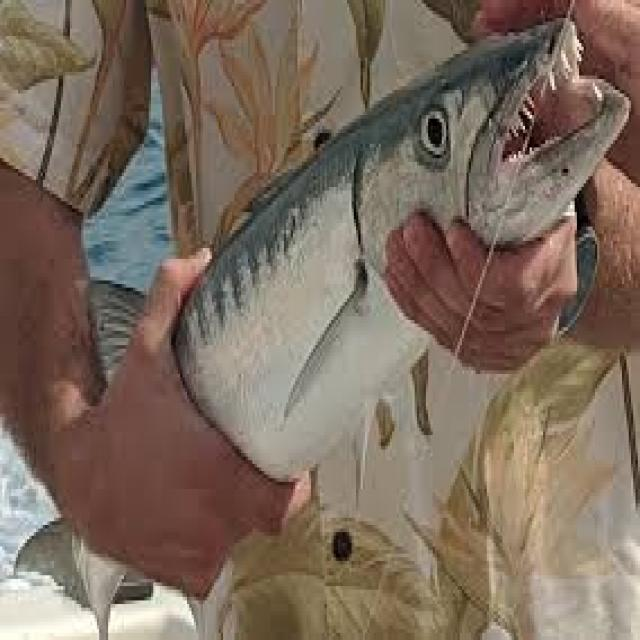Barracuda: (12, 14, 636, 640)
